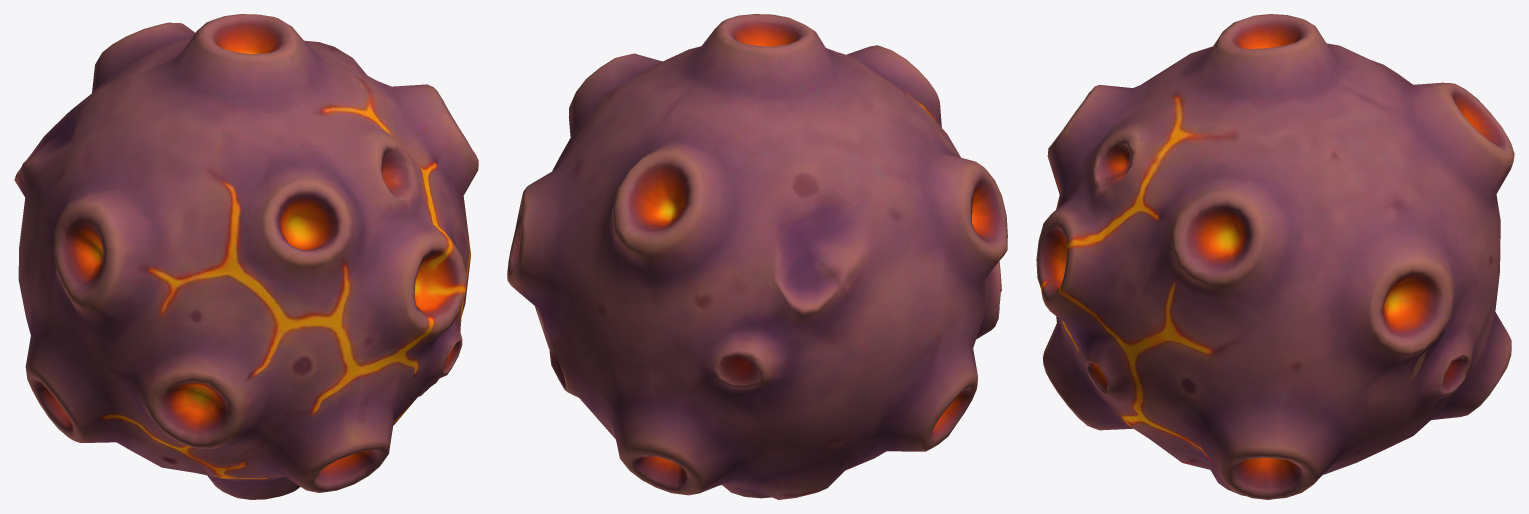
Rendered from meteor.glb.
3 views of the same model, side by side, from view 1: azimuth 30°, elevation 25°; view 2: azimuth 150°, elevation 25°; view 3: azimuth 270°, elevation 25° (orthographic). The views are drawn at different scales.
Visible parts, largest first — view 1: geometry_0; view 2: geometry_0; view 3: geometry_0.
Part boxes in pixels (x1,y1,x2,y2): geometry_0: [14, 14, 478, 499]; geometry_0: [507, 14, 1007, 499]; geometry_0: [1036, 14, 1514, 499].
Bounding box in the file's own units: 0.8989 × 0.9512 × 0.9116.
Materials: 1 (1 with a texture image).
